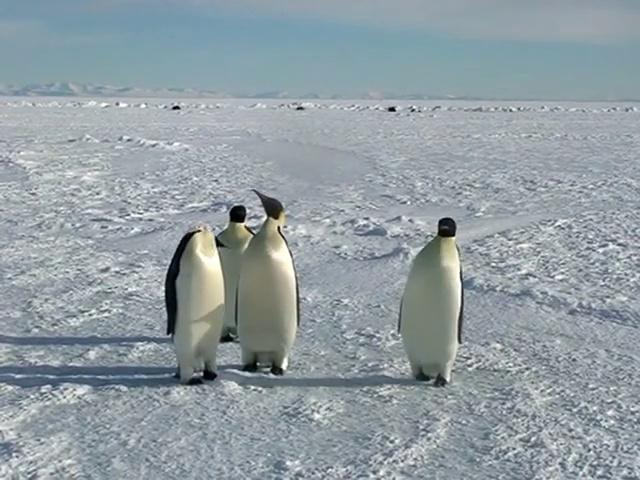animal: (398, 217, 462, 384)
